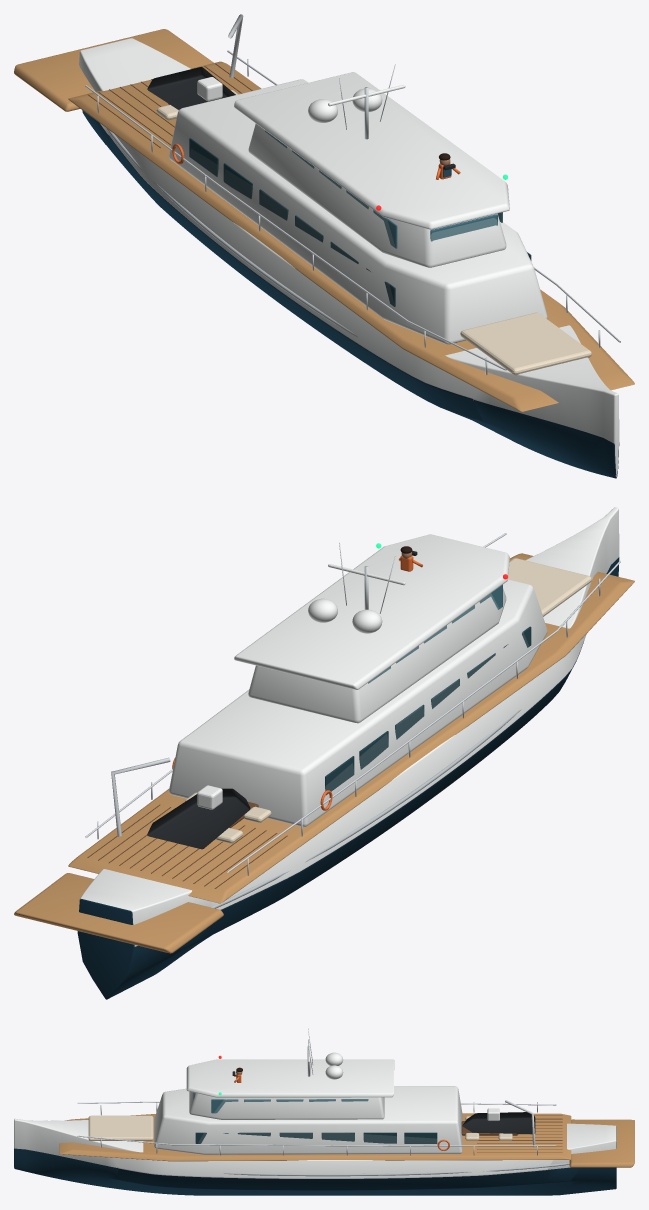
Rendered from aurora_explorer_yacht.glb.
The picture shows the model from 3 angles, top to bottom: view 1: azimuth 30°, elevation 25°; view 2: azimuth 150°, elevation 25°; view 3: azimuth 270°, elevation 25°; orthographic projection. The views are drawn at different scales.
Visible parts, largest first — view 1: aurora_deep_v_hull, tapered_main_superstructure, floating_bridge_roof, sculpted_main_deck, panoramic_pilothouse, foredeck_sun_lounge, hydraulic_swim_platform, expedition_rib_tender, port_continuous_safety_rail, port_waterline_stripe, bridge_front_glass; view 2: tapered_main_superstructure, aurora_deep_v_hull, floating_bridge_roof, sculpted_main_deck, panoramic_pilothouse, hydraulic_swim_platform, expedition_rib_tender, foredeck_sun_lounge, port_waterline_stripe, port_continuous_safety_rail; view 3: aurora_deep_v_hull, tapered_main_superstructure, floating_bridge_roof, sculpted_main_deck, panoramic_pilothouse, hydraulic_swim_platform, foredeck_sun_lounge, expedition_rib_tender, starboard_waterline_stripe, starboard_continuous_safety_rail, starboard_salon_window_5, starboard_salon_window_4 (+2 smaller).
Boxes of the visible parts, box(x1,y1,x2,y2) form: aurora_deep_v_hull: box(79, 38, 619, 478); tapered_main_superstructure: box(169, 79, 547, 344); floating_bridge_roof: box(234, 72, 509, 229); sculpted_main_deck: box(68, 61, 634, 411); panoramic_pilothouse: box(248, 123, 506, 267); foredeck_sun_lounge: box(460, 312, 591, 375); hydraulic_swim_platform: box(14, 29, 213, 111); expedition_rib_tender: box(147, 67, 235, 109); port_continuous_safety_rail: box(85, 85, 506, 370); port_waterline_stripe: box(106, 128, 357, 337); bridge_front_glass: box(430, 214, 497, 241); tapered_main_superstructure: box(169, 579, 547, 826); aurora_deep_v_hull: box(77, 507, 619, 999); floating_bridge_roof: box(234, 534, 509, 689); sculpted_main_deck: box(68, 553, 634, 903); panoramic_pilothouse: box(248, 588, 506, 723); hydraulic_swim_platform: box(14, 873, 223, 953); expedition_rib_tender: box(147, 788, 250, 849); foredeck_sun_lounge: box(508, 558, 591, 616); port_waterline_stripe: box(210, 709, 521, 908); port_continuous_safety_rail: box(227, 560, 620, 872); aurora_deep_v_hull: box(14, 1118, 616, 1195); tapered_main_superstructure: box(154, 1086, 462, 1154); floating_bridge_roof: box(186, 1059, 394, 1097); sculpted_main_deck: box(59, 1113, 571, 1161); panoramic_pilothouse: box(189, 1091, 384, 1119); hydraulic_swim_platform: box(569, 1119, 634, 1167); foredeck_sun_lounge: box(88, 1115, 153, 1140); expedition_rib_tender: box(462, 1112, 535, 1134); starboard_waterline_stripe: box(224, 1163, 569, 1176); starboard_continuous_safety_rail: box(77, 1135, 556, 1146); starboard_salon_window_5: box(404, 1132, 437, 1143); starboard_salon_window_4: box(363, 1132, 396, 1143).
Bounding box in the file's own units: 7.55 × 11.08 × 39.15.
